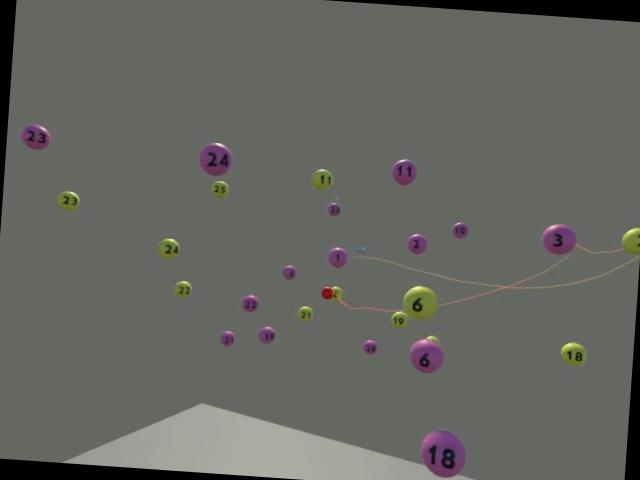ball_01_pink: (326, 246, 346, 268)
ball_02_pink: (406, 232, 426, 253)
ball_03_pink: (540, 222, 576, 255)
ball_04_pink: (280, 265, 296, 279)
ball_06_pink: (408, 336, 443, 372)
ball_06_yellow: (400, 284, 438, 320)
ball_10_pink: (451, 220, 468, 238)
ball_11_pink: (390, 156, 417, 186)
ball_11_yellow: (310, 168, 333, 191)
ball_18_yellow: (558, 342, 586, 364), (56, 188, 80, 212)
ball_19_pink: (257, 326, 275, 343)
ball_19_yellow: (389, 310, 408, 327)
ball_20_pink: (362, 339, 376, 354)
ball_21_pink: (240, 294, 260, 313), (220, 330, 235, 346)
ball_21_yellow: (296, 306, 312, 320)
ball_22_yellow: (172, 279, 192, 297)
ball_23_pink: (418, 428, 467, 478), (20, 123, 51, 150)
ball_24_pink: (198, 140, 232, 176)
ball_24_yellow: (156, 237, 178, 259)
ball_25_pink: (326, 202, 342, 216)
ball_25_yellow: (210, 180, 228, 198)
ball_unknown: (620, 225, 640, 254), (330, 285, 343, 299), (425, 334, 440, 344)
user_cursor: (320, 286, 332, 299)
